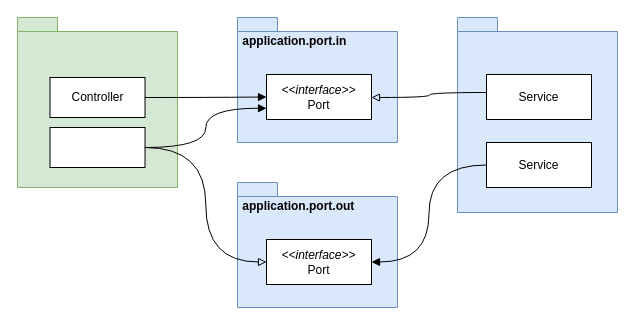
The diagram is 635 pixels wide and 325 high, and some of its shapes have lost their labels. The box of each missing label's shape, as (x1, y1, x2, y2) in pixels:
adapter.in.web: (16, 16, 178, 188)
application.service: (456, 16, 618, 212)
WebSocket Controller: (49, 126, 145, 168)
